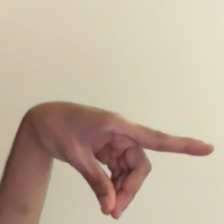P: (15, 97, 224, 223)
